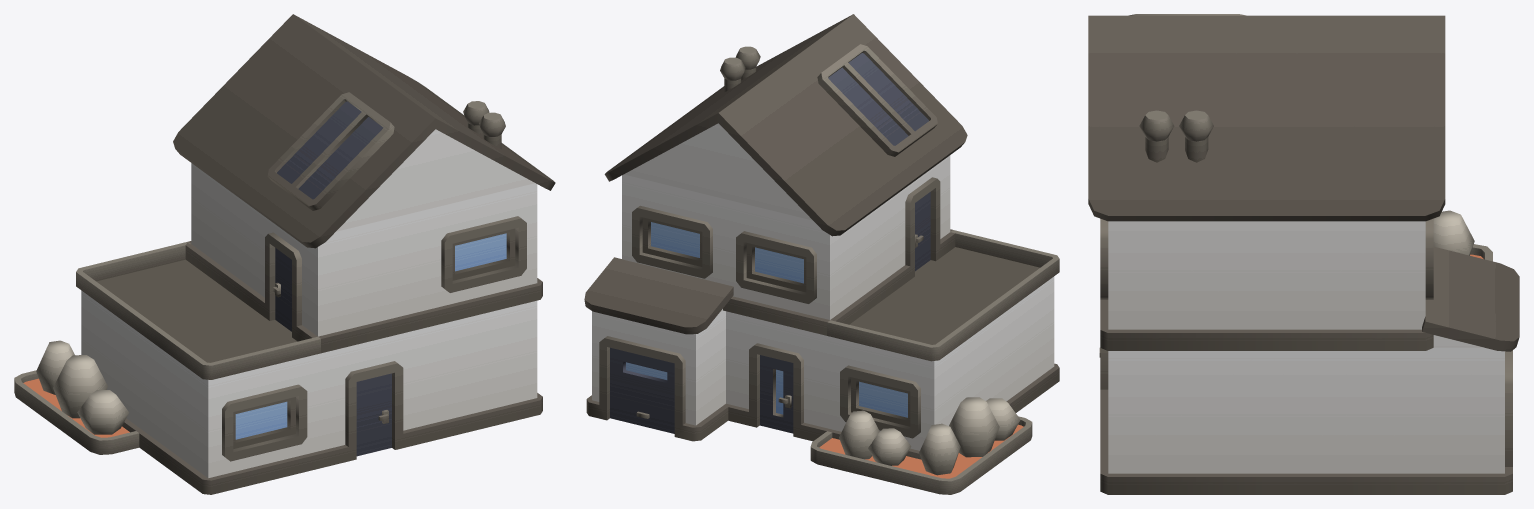
Rendered from sub-building-type-u.glb.
The picture shows the model from 3 angles, left to right: view 1: azimuth 30°, elevation 25°; view 2: azimuth 150°, elevation 25°; view 3: azimuth 270°, elevation 25°; orthographic projection. The views are drawn at different scales.
Parts seen in each view (by area): view 1: building-type-u; view 2: building-type-u; view 3: building-type-u.
Boxes of the visible parts, bbox=[...] form: building-type-u: bbox=[14, 14, 555, 494]; building-type-u: bbox=[584, 14, 1059, 494]; building-type-u: bbox=[1088, 14, 1519, 494].
Bounding box in the file's own units: 1.43 × 1.14 × 1.09.
1 material, 1 textured.
